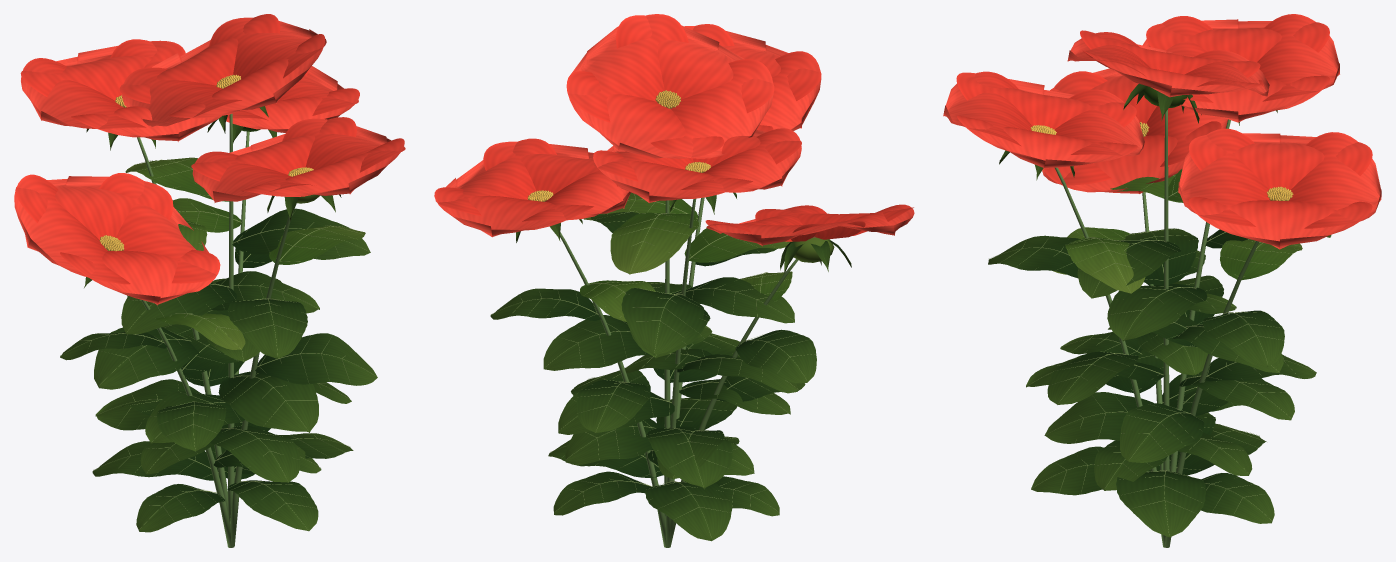
File: poppy-10.glb
3 renders of one model, left to right at view 1: azimuth 30°, elevation 25°; view 2: azimuth 150°, elevation 25°; view 3: azimuth 270°, elevation 25°, orthographic. The views are drawn at different scales.
Parts seen in each view (by area): view 1: poppy_stage_10_poppy_petal.018, poppy_stage_10_leaf_veins.018, poppy_stage_10_young_leaf.018, poppy_stage_10_stem_fibres.018, poppy_stage_10_raised_midveins.018, poppy_stage_10_pollen_granules.018; view 2: poppy_stage_10_poppy_petal.018, poppy_stage_10_leaf_veins.018, poppy_stage_10_young_leaf.018, poppy_stage_10_stem_fibres.018, poppy_stage_10_raised_midveins.018, poppy_stage_10_pollen_granules.018; view 3: poppy_stage_10_poppy_petal.018, poppy_stage_10_leaf_veins.018, poppy_stage_10_young_leaf.018, poppy_stage_10_stem_fibres.018, poppy_stage_10_raised_midveins.018, poppy_stage_10_pollen_granules.018.
Part boxes in pixels (x1=…): poppy_stage_10_poppy_petal.018: x1=14, y1=14, x2=405, y2=305; poppy_stage_10_leaf_veins.018: x1=60, y1=106, x2=377, y2=532; poppy_stage_10_young_leaf.018: x1=125, y1=126, x2=365, y2=349; poppy_stage_10_stem_fibres.018: x1=137, y1=113, x2=294, y2=547; poppy_stage_10_raised_midveins.018: x1=60, y1=158, x2=376, y2=530; poppy_stage_10_pollen_granules.018: x1=99, y1=74, x2=313, y2=251; poppy_stage_10_poppy_petal.018: x1=434, y1=14, x2=914, y2=246; poppy_stage_10_leaf_veins.018: x1=490, y1=192, x2=851, y2=541; poppy_stage_10_young_leaf.018: x1=580, y1=192, x2=834, y2=321; poppy_stage_10_stem_fibres.018: x1=560, y1=197, x2=798, y2=547; poppy_stage_10_raised_midveins.018: x1=491, y1=194, x2=815, y2=537; poppy_stage_10_pollen_granules.018: x1=527, y1=90, x2=710, y2=201; poppy_stage_10_poppy_petal.018: x1=943, y1=14, x2=1381, y2=249; poppy_stage_10_leaf_veins.018: x1=988, y1=83, x2=1331, y2=537; poppy_stage_10_young_leaf.018: x1=1052, y1=85, x2=1302, y2=293; poppy_stage_10_stem_fibres.018: x1=1055, y1=109, x2=1258, y2=547; poppy_stage_10_raised_midveins.018: x1=989, y1=175, x2=1316, y2=535; poppy_stage_10_pollen_granules.018: x1=1030, y1=122, x2=1293, y2=200.
Size of the model in its own units: 0.5 by 0.6411 by 0.4921.
7 materials, 3 textured.
